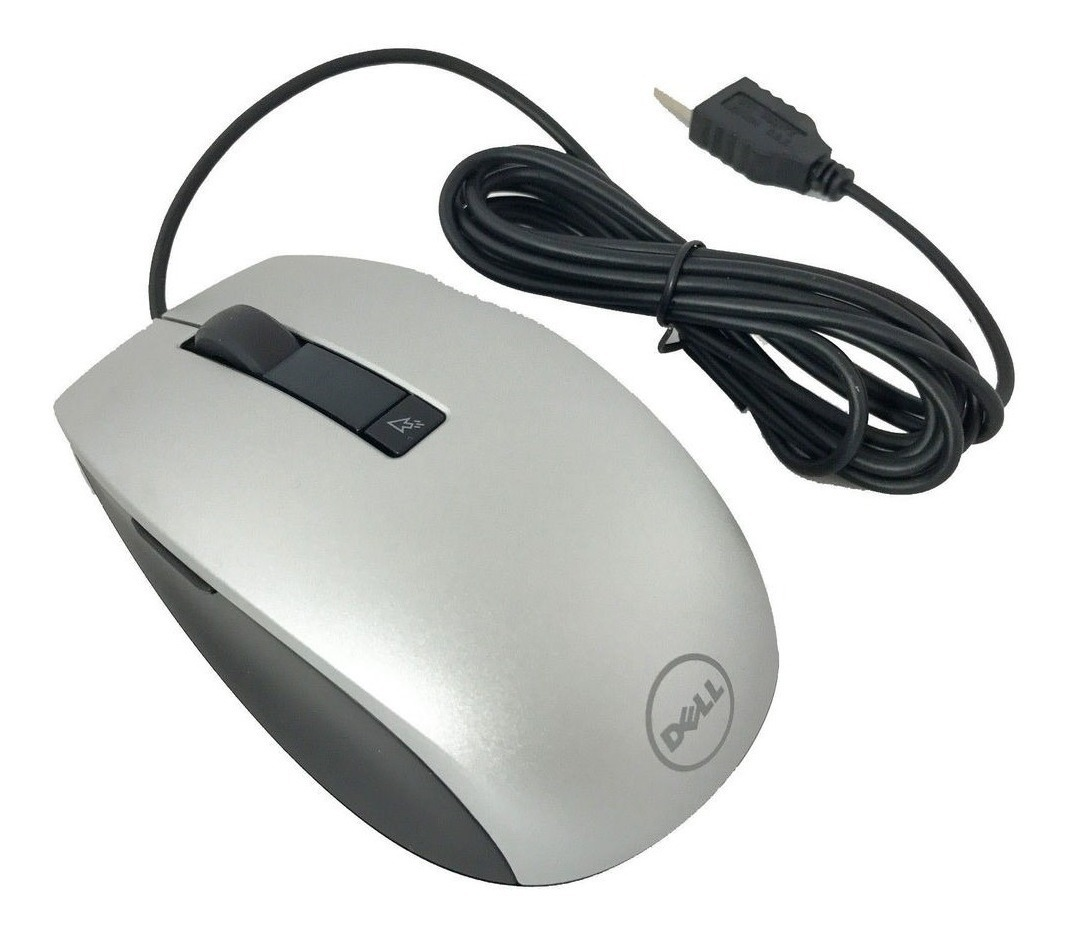mouse: (47, 238, 789, 898)
